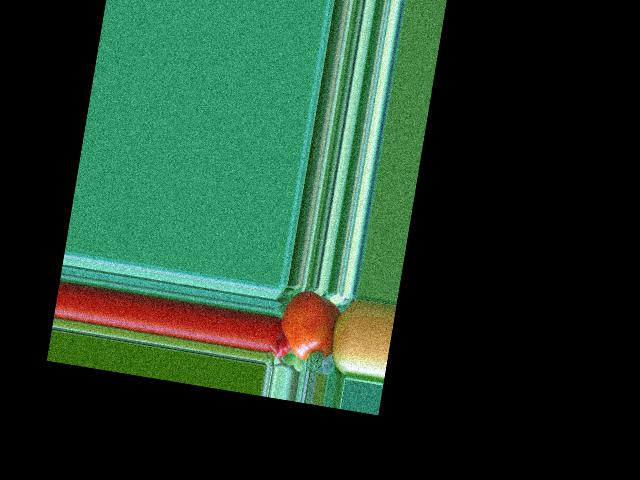tomato: (276, 287, 340, 364)
